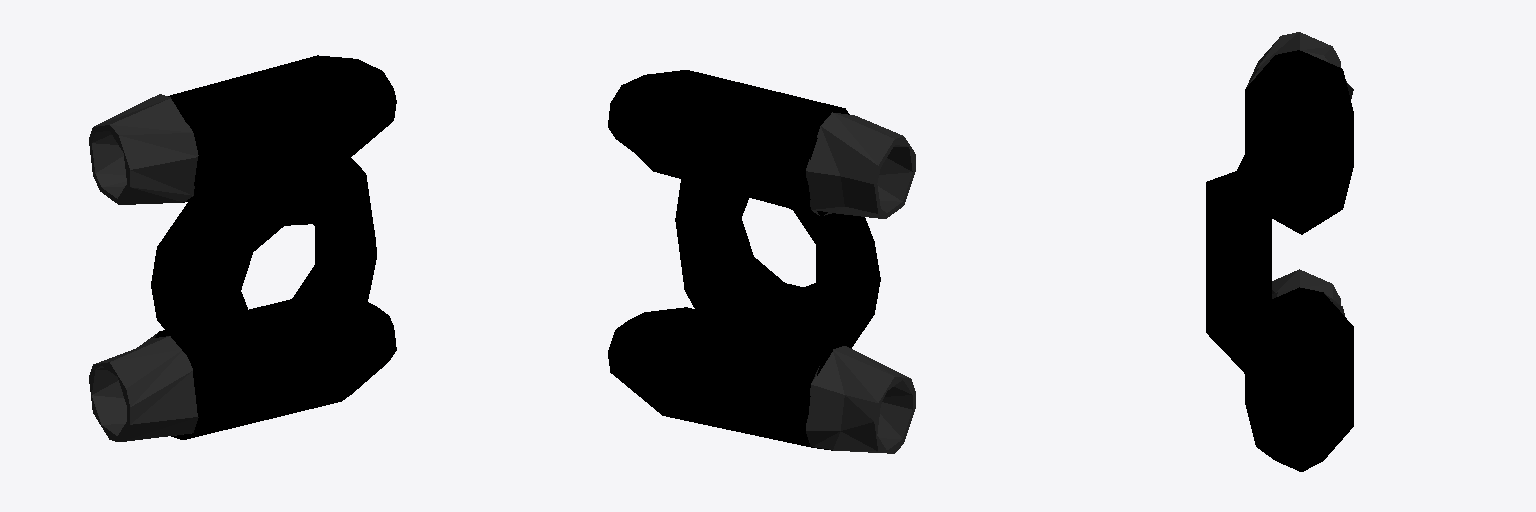
The model's file is ship.obj.
3 views of the same model, side by side, from view 1: azimuth 30°, elevation 25°; view 2: azimuth 150°, elevation 25°; view 3: azimuth 270°, elevation 25° (orthographic).
Visible parts, largest first — view 1: Ball_Ring, Left_Fuel, Right_Fuel, Left_Thrus, Right_Thrus; view 2: Left_Fuel, Right_Fuel, Ball_Ring, Right_Thrus, Left_Thrus; view 3: Left_Fuel, Right_Fuel, Ball_Ring, Left_Thrus, Right_Thrus.
Part boxes in pixels (left/top/right/bottom): Ball_Ring: left=151, top=155, right=376, bottom=375; Left_Fuel: left=168, top=55, right=396, bottom=202; Right_Fuel: left=155, top=299, right=396, bottom=439; Left_Thrus: left=89, top=94, right=198, bottom=204; Right_Thrus: left=89, top=333, right=198, bottom=441; Left_Fuel: left=608, top=70, right=849, bottom=216; Right_Fuel: left=608, top=307, right=835, bottom=450; Ball_Ring: left=675, top=179, right=880, bottom=348; Right_Thrus: left=806, top=346, right=915, bottom=453; Left_Thrus: left=806, top=112, right=915, bottom=218; Left_Fuel: left=1245, top=50, right=1353, bottom=234; Right_Fuel: left=1245, top=287, right=1353, bottom=471; Ball_Ring: left=1206, top=155, right=1271, bottom=388; Left_Thrus: left=1246, top=32, right=1353, bottom=98; Right_Thrus: left=1272, top=269, right=1344, bottom=315.
Bounding box in the file's own units: 1.69 × 2 × 0.7903.